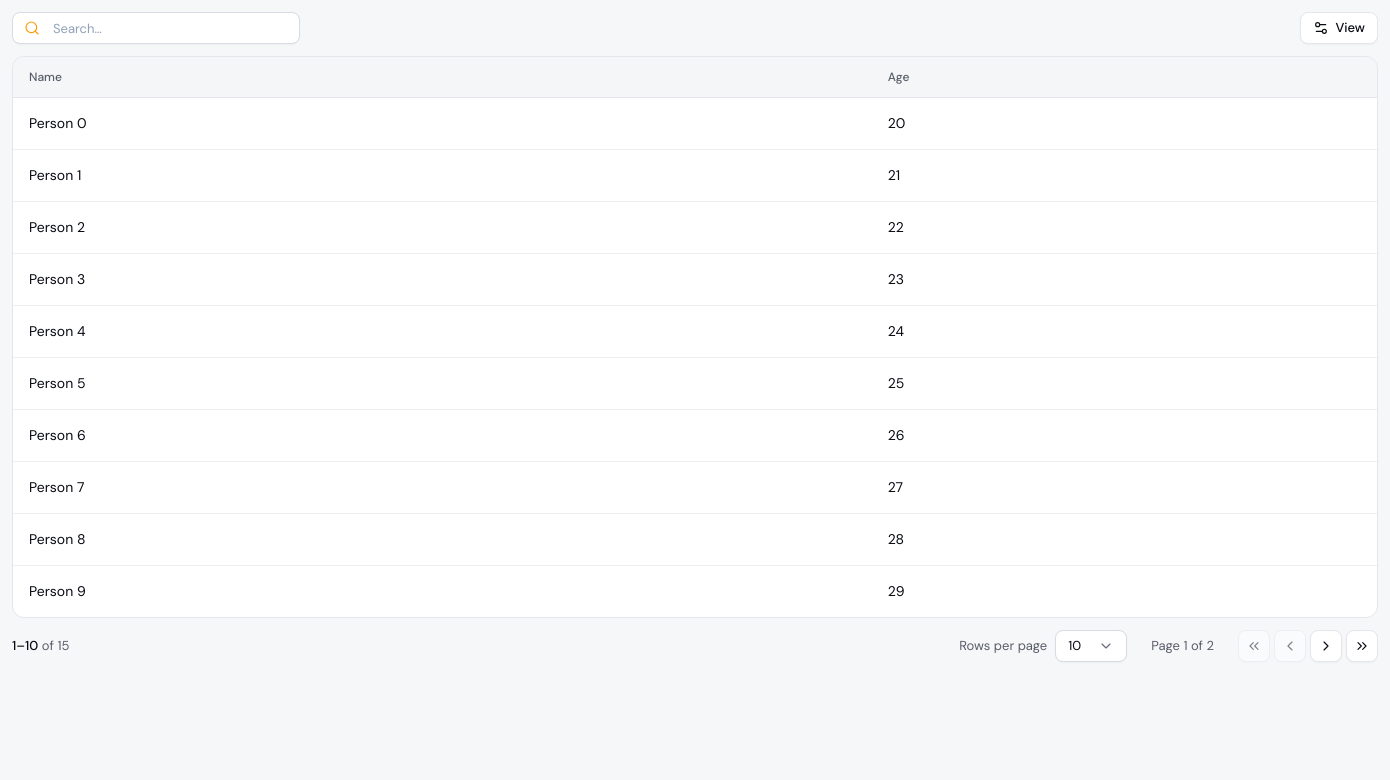
it: DataTable › shows the empty state when nothing matches
This screenshot has width=1390, height=780.
Type "zzz" into the search field labelled "Search" at (156, 28), box [12,12,300,44]
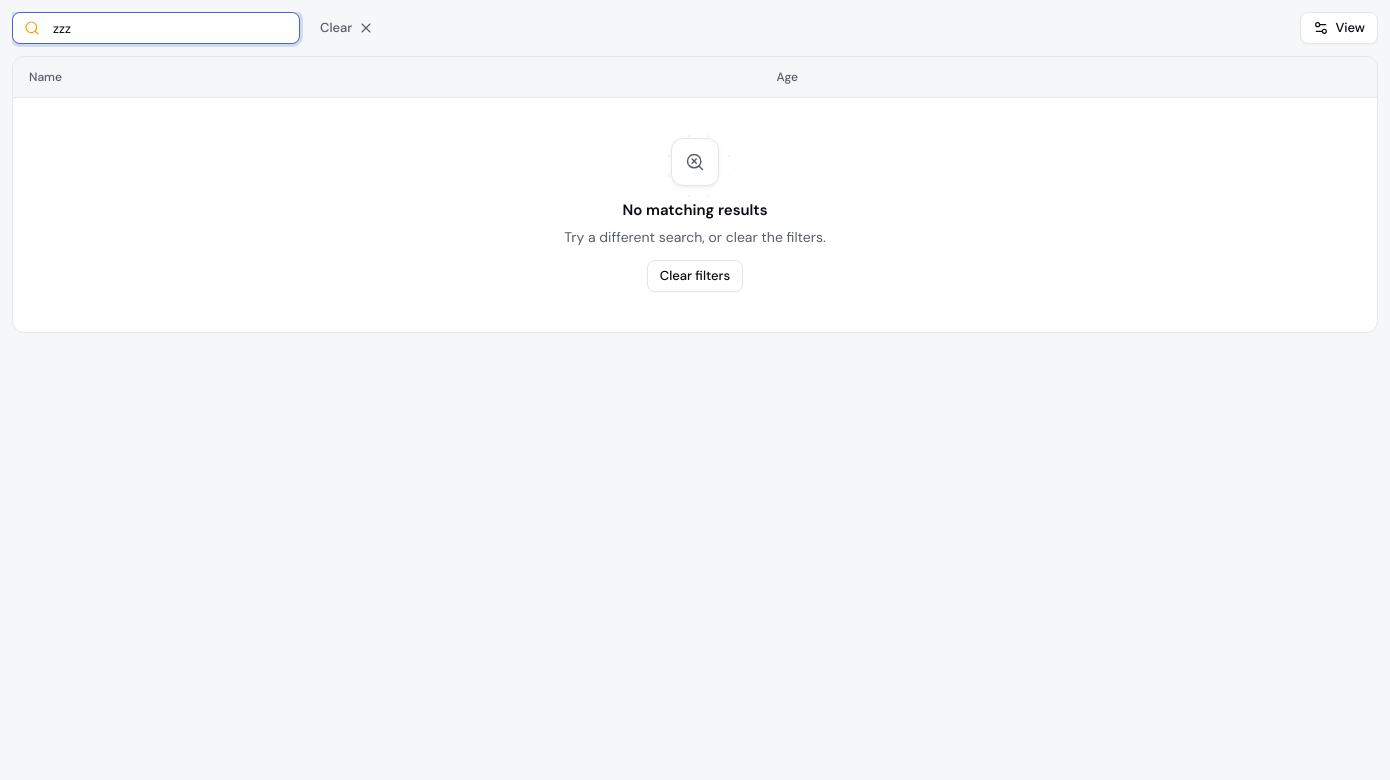
Check: the text "No matching results" is shown, box [622,200,768,220]
